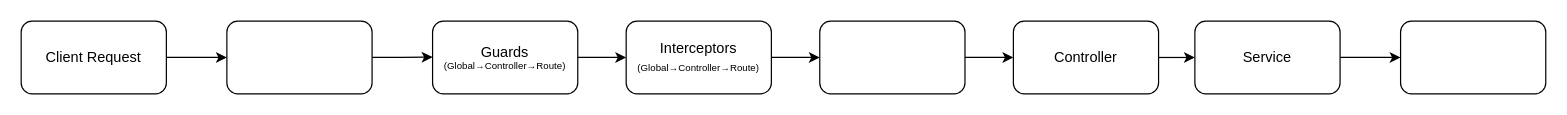
Image size: 1567x115. Some labels were removed from this diagram. The centre of each missing label's shape, as x and y in pixels:
Middleware (Global→Module): the point at 299,57
Pipes (Global→Controller→Route): the point at 892,57
Server response: the point at 1472,57
